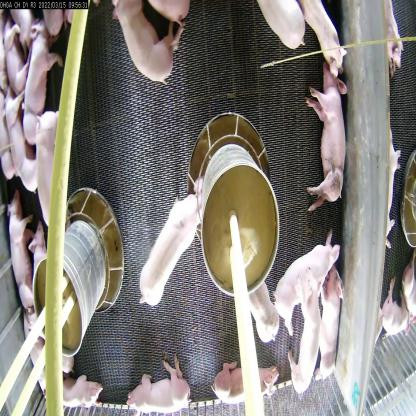Pig: (141, 186, 200, 314), (108, 0, 190, 88), (306, 54, 351, 196), (272, 229, 344, 316), (18, 20, 60, 165), (29, 116, 77, 238), (123, 353, 199, 416), (0, 91, 37, 216), (238, 275, 284, 359), (290, 290, 324, 398), (204, 365, 277, 411), (40, 368, 108, 415), (322, 261, 347, 379), (7, 194, 34, 286), (257, 0, 300, 48)
